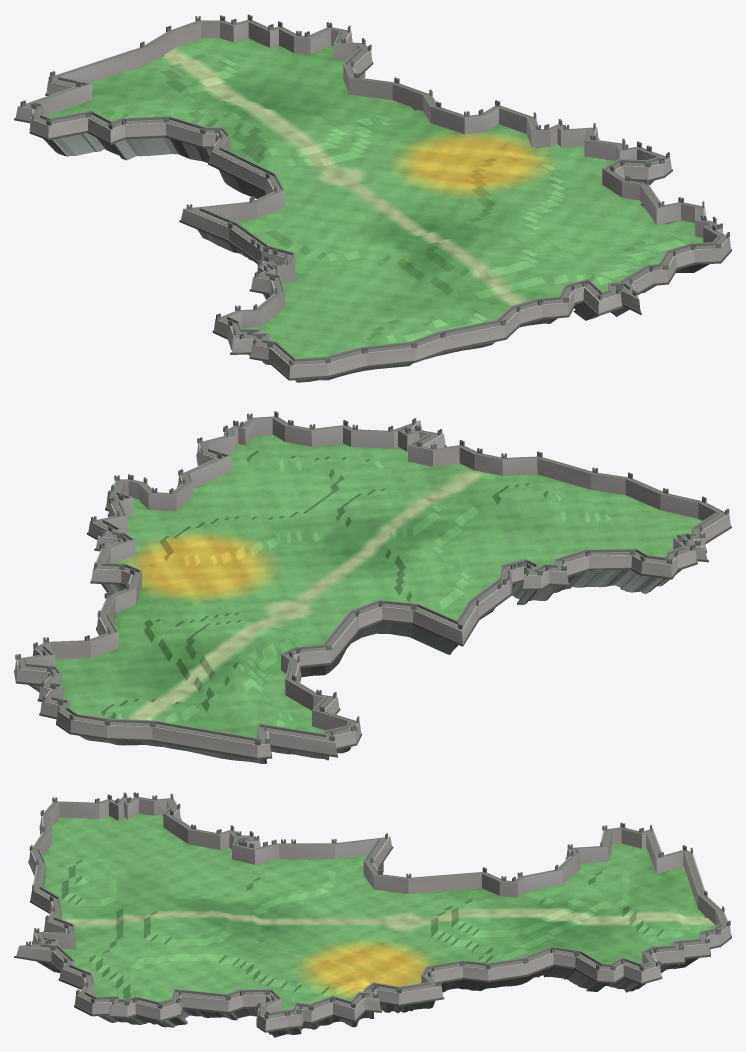
3 views of the same model, one above another, from view 1: azimuth 30°, elevation 25°; view 2: azimuth 150°, elevation 25°; view 3: azimuth 270°, elevation 25° (orthographic). The views are drawn at different scales.
Visible parts, largest first — view 1: ground_b4b15b05; view 2: ground_b4b15b05; view 3: ground_b4b15b05.
Boxes of the visible parts, x1,y1,x2,y2 form: ground_b4b15b05: (14,14,731,382); ground_b4b15b05: (14,411,731,763); ground_b4b15b05: (14,792,731,1037).
Size of the model in its own units: 118 by 7.61 by 157.
Materials: 3 (1 with a texture image).
